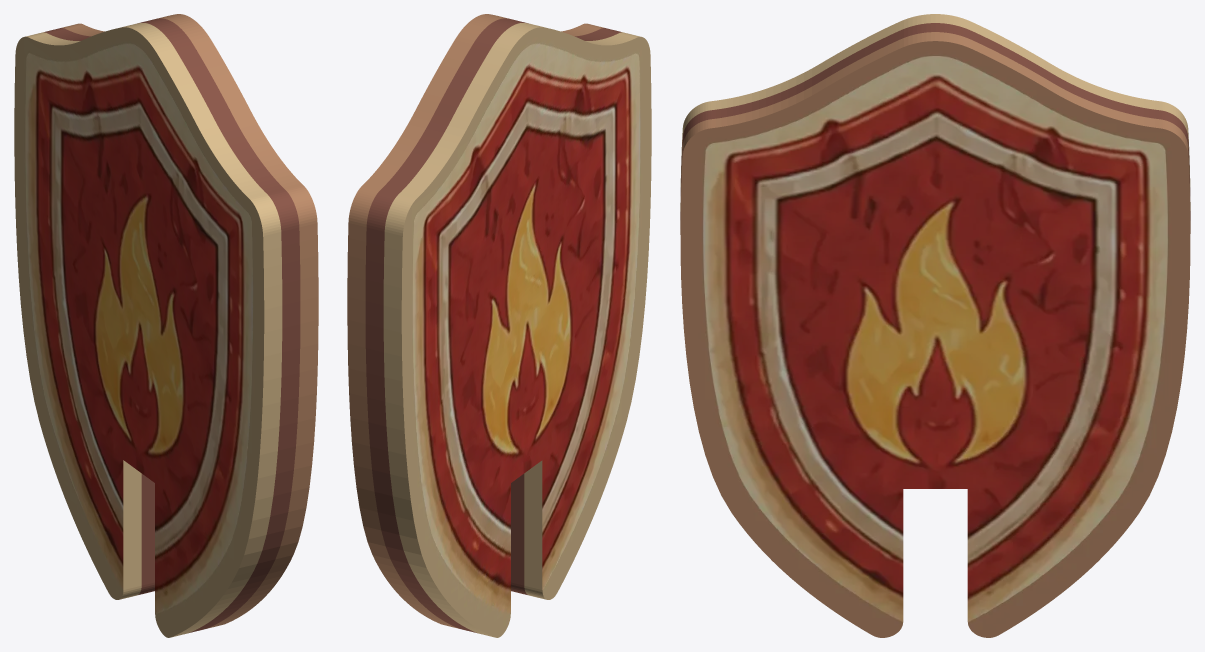
The model's file is extra-topper-03.glb.
3 views of the same model, side by side, from view 1: azimuth 30°, elevation 25°; view 2: azimuth 150°, elevation 25°; view 3: azimuth 270°, elevation 25° (orthographic). The views are drawn at different scales.
Parts seen in each view (by area): view 1: extra-topper-03; view 2: extra-topper-03; view 3: extra-topper-03.
Part boxes in pixels (box(x1,y1,x2,y2)): extra-topper-03: box(14, 14, 318, 637); extra-topper-03: box(347, 14, 651, 637); extra-topper-03: box(680, 14, 1190, 637).
Bounding box in the file's own units: 27 × 277 × 215.
Materials: 6 (3 with a texture image).
